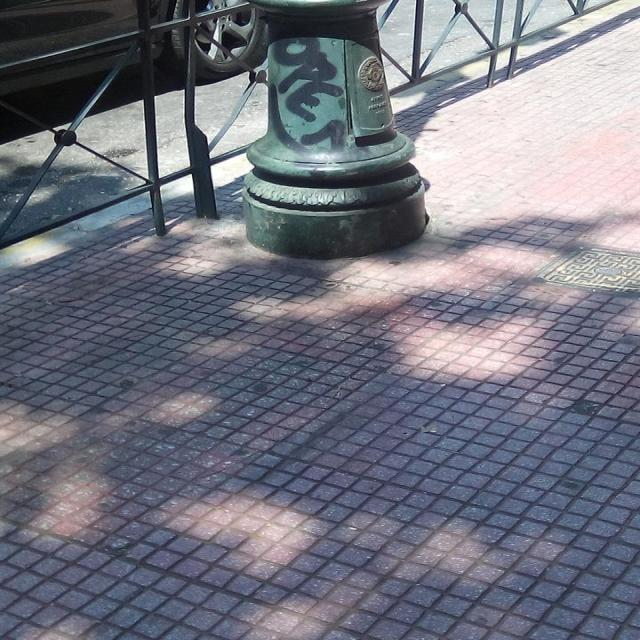nonspitting: (266, 30, 354, 164)
